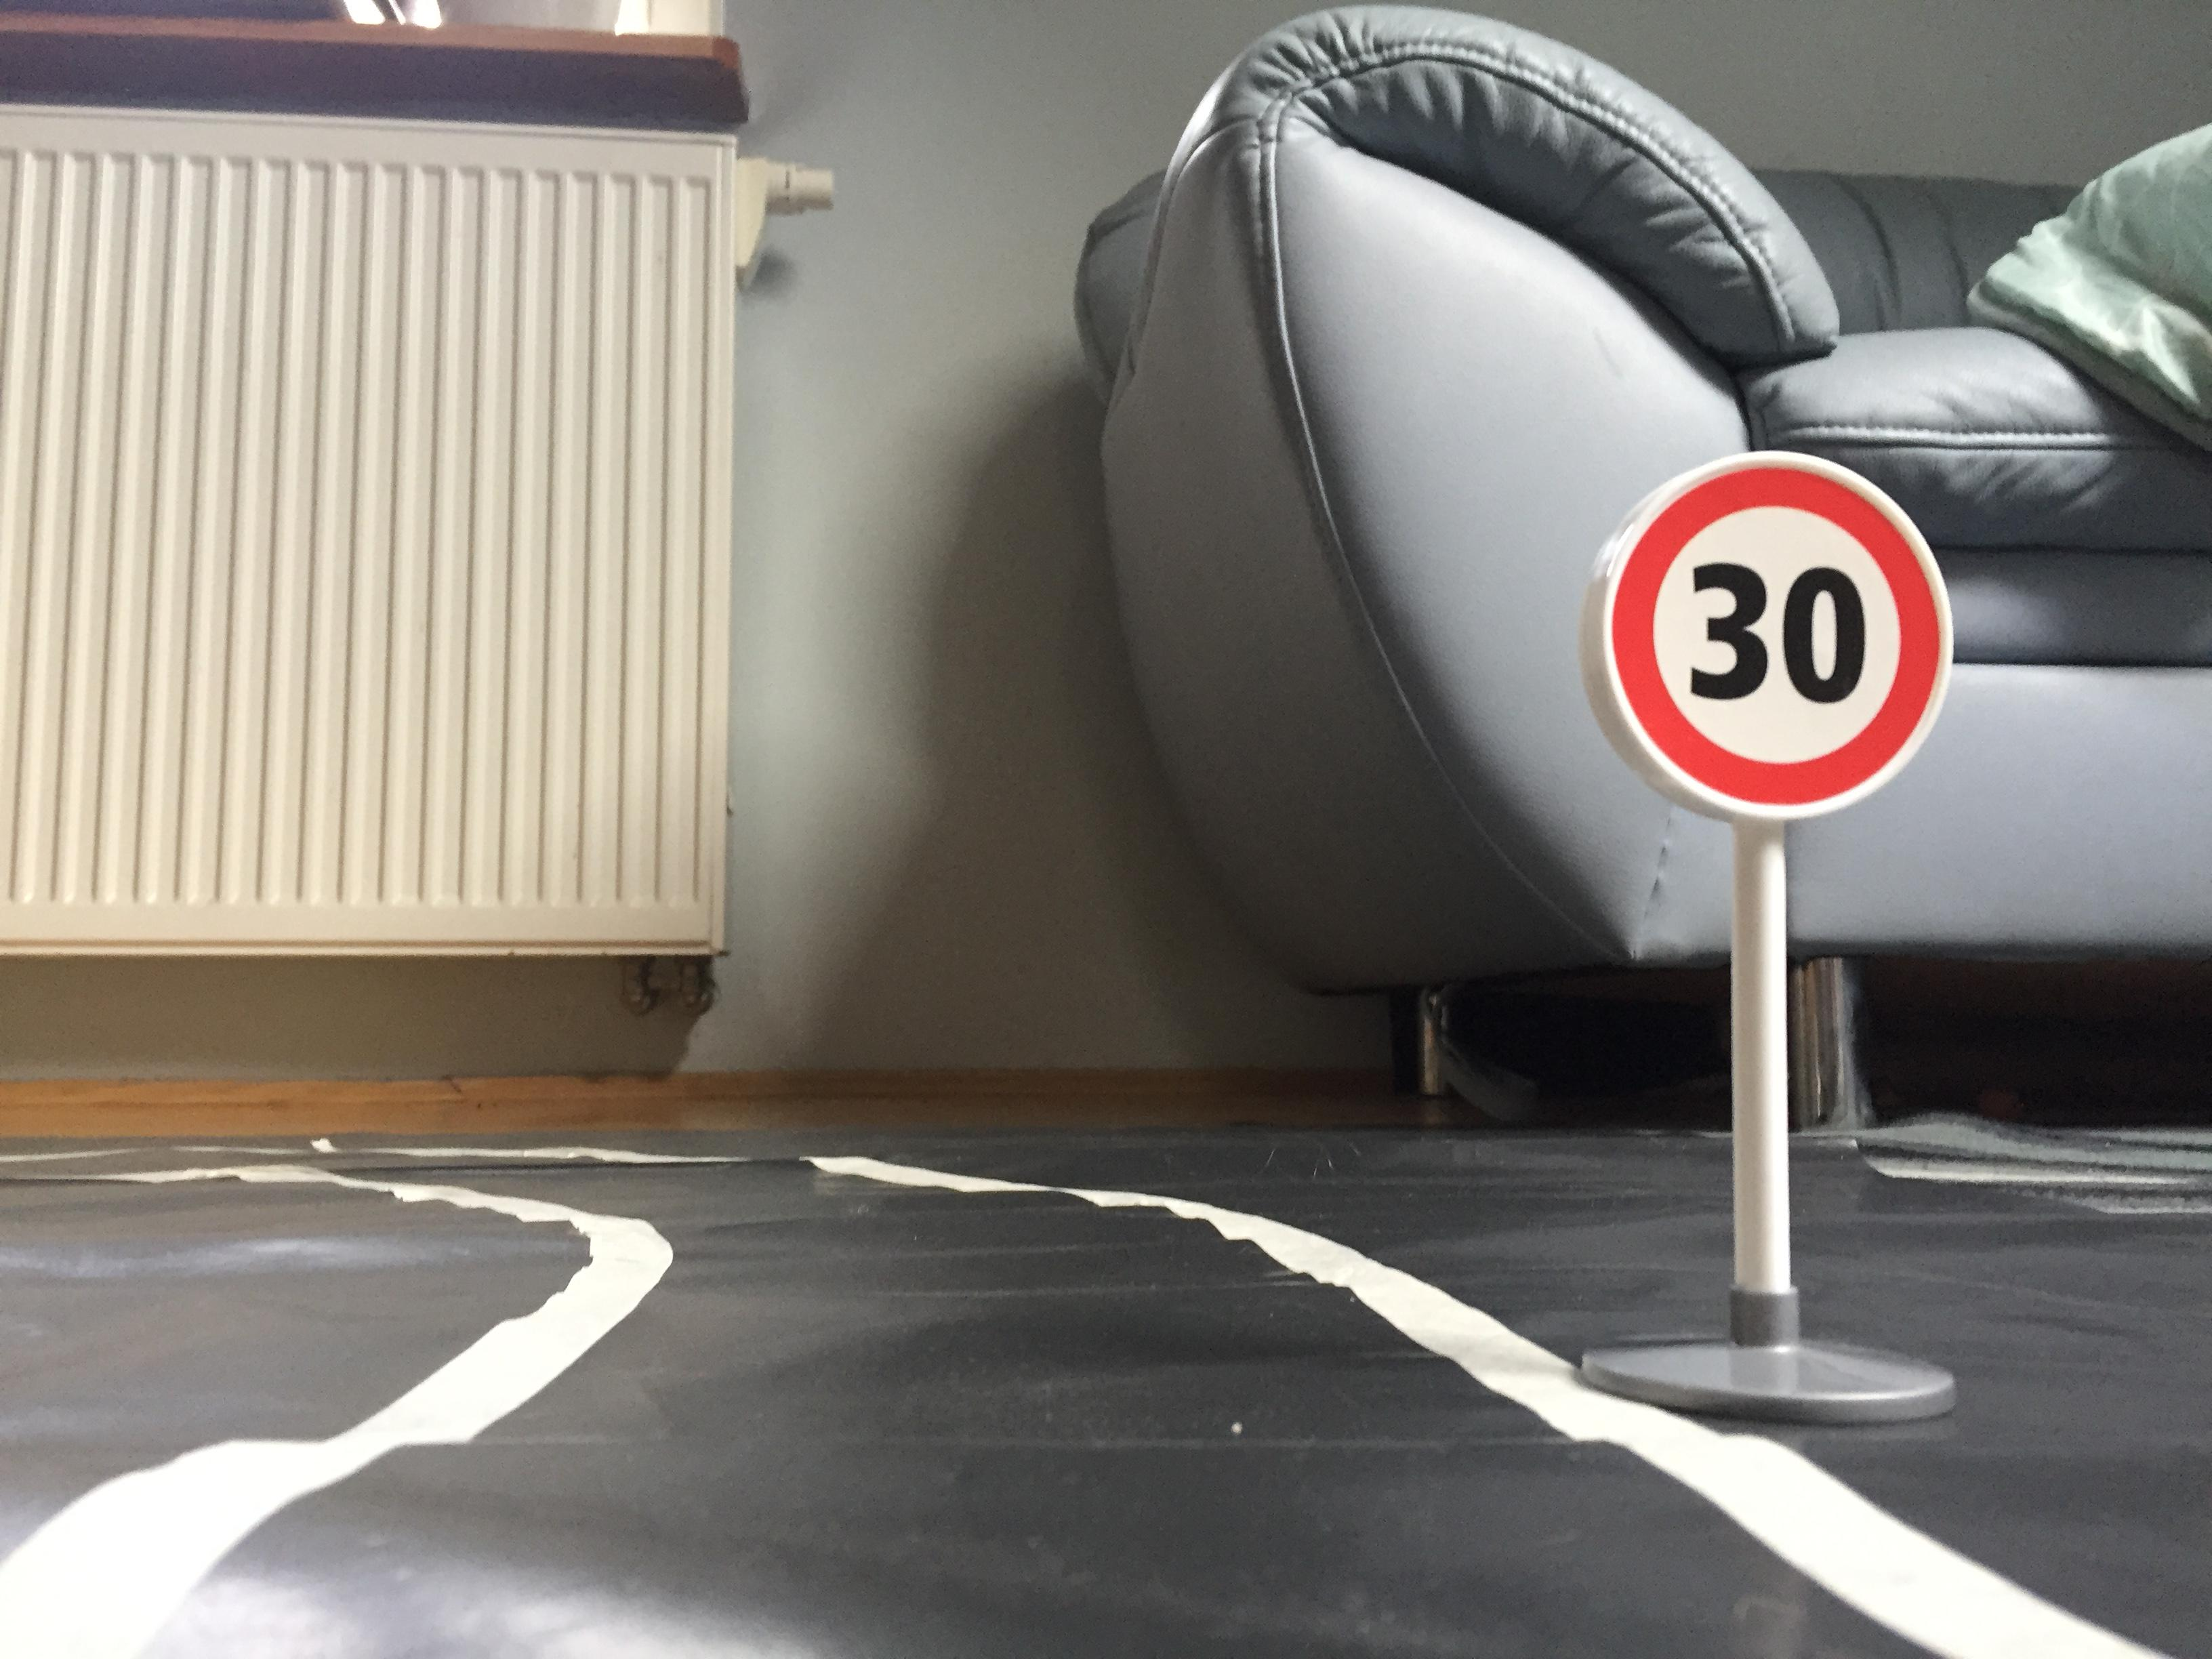speed: (1566, 446, 1977, 833)
